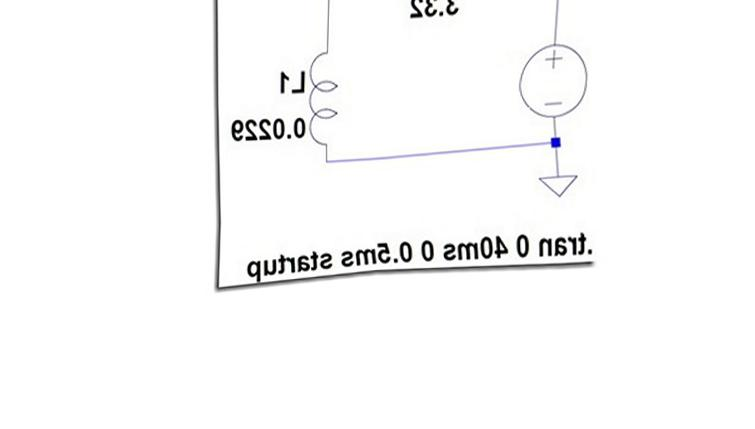Battery: (497, 35, 603, 129)
